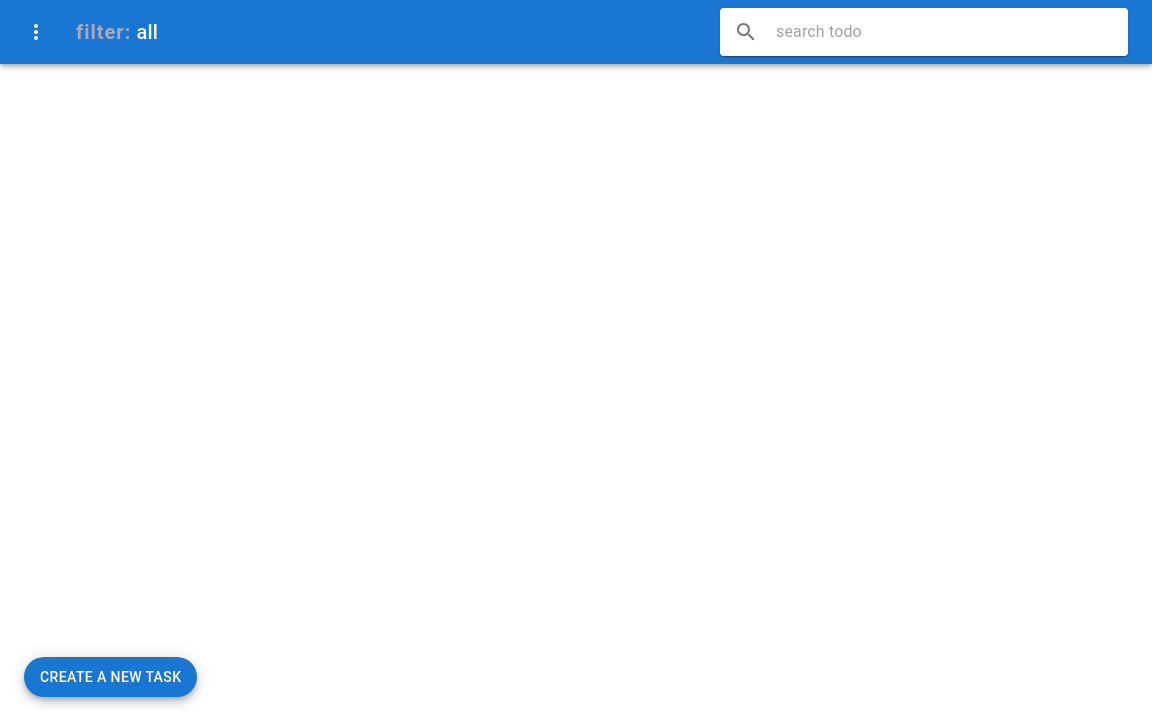
Test case: renders › open menu
Click the button with id "fade-button": (36, 32) x1=12 y1=8 x2=60 y2=56
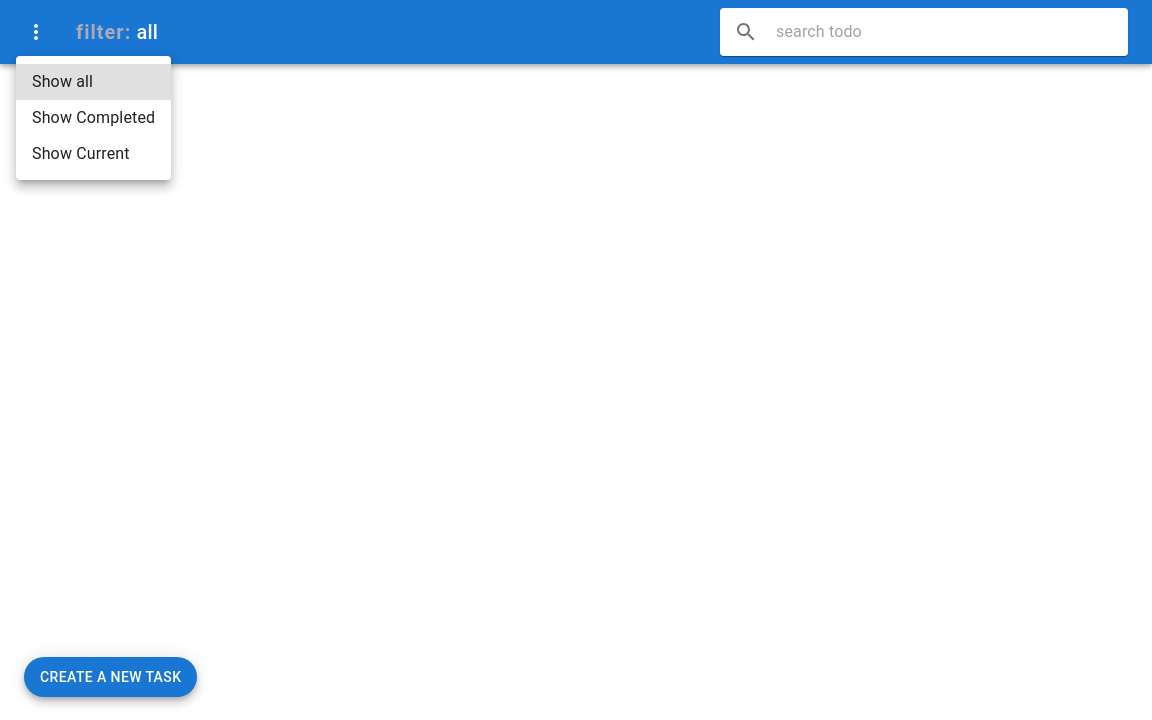
Expected: the menu item "Show all" is shown, x1=16 y1=64 x2=171 y2=100
